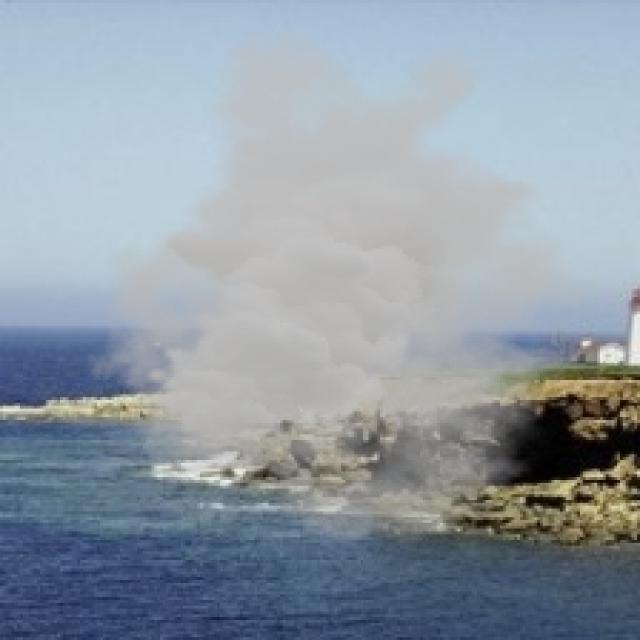Smoke: (86, 26, 628, 543)
